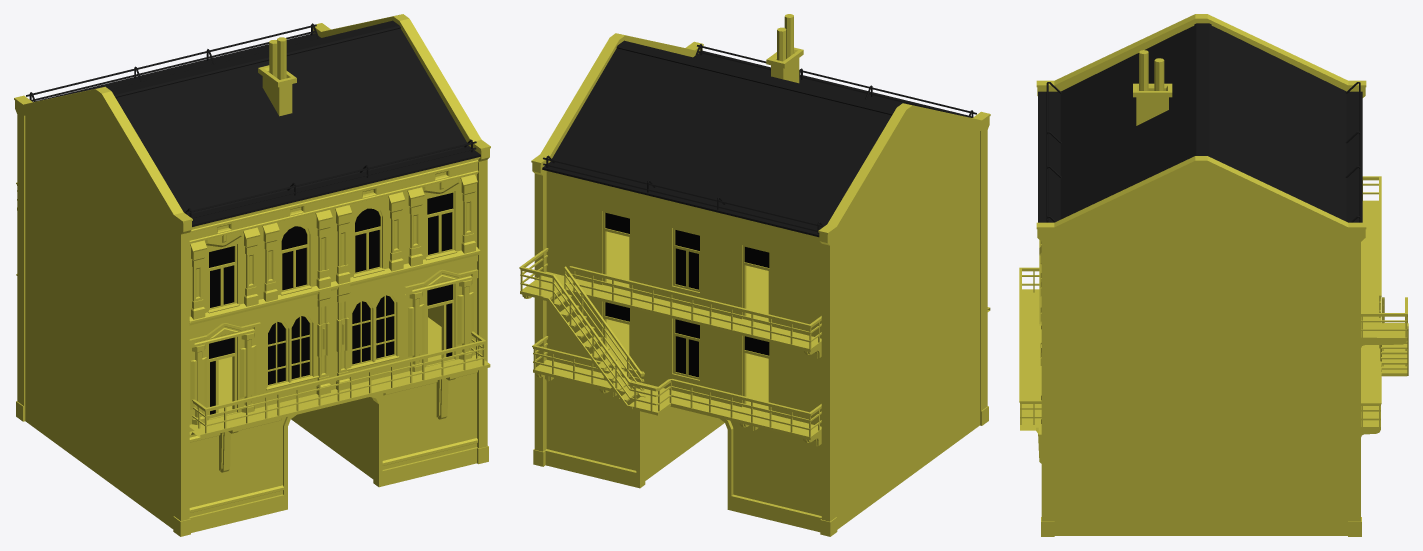
File: SM_second_house_3.fbx
The picture shows the model from 3 angles, left to right: view 1: azimuth 30°, elevation 25°; view 2: azimuth 150°, elevation 25°; view 3: azimuth 270°, elevation 25°; orthographic projection. The views are drawn at different scales.
Parts seen in each view (by area): view 1: Cube_7; view 2: Cube_7; view 3: Cube_7.
Boxes of the visible parts, x1=… form: Cube_7: x1=14, y1=14, x2=490, y2=536; Cube_7: x1=519, y1=14, x2=990, y2=536; Cube_7: x1=1019, y1=14, x2=1408, y2=536.
Bounding box in the file's own units: 1064 × 1389 × 1192.
